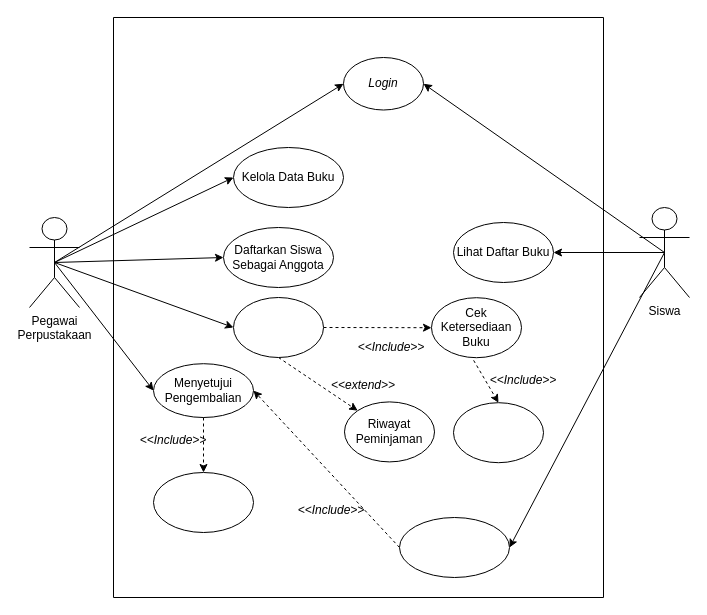
The diagram is 707 pixels wide and 615 high, and some of its shapes have lost their labels. The centre of each missing label's shape, as x and y in pixels:
"Kembalikan Buku" belongs at (454,547).
"Notifikasi Pengadaan Buku (ARS)" belongs at (498,432).
"Peminjaman Buku" belongs at (278,327).
"Perbarui Stok Otomatis (ARS)" belongs at (203,502).
